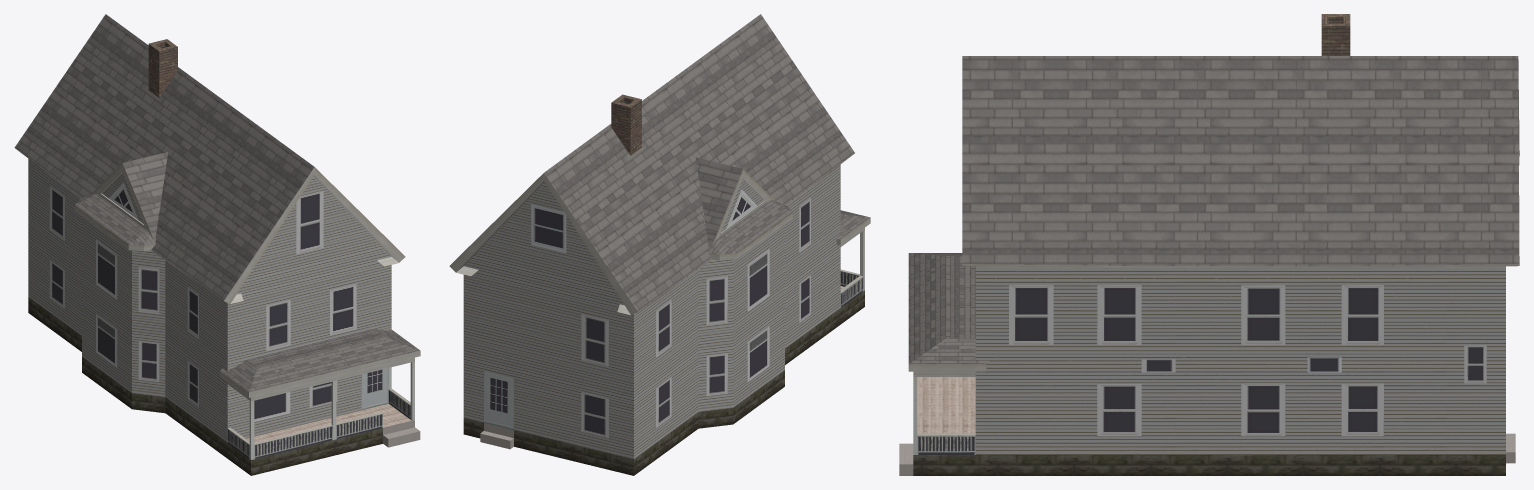
Rendered from farmhouse3.fbx.
3 renders of one model, left to right at view 1: azimuth 30°, elevation 25°; view 2: azimuth 150°, elevation 25°; view 3: azimuth 270°, elevation 25°, orthographic. The views are drawn at different scales.
Visible parts, largest first — view 1: Cube.001; view 2: Cube.001; view 3: Cube.001.
Boxes of the visible parts, bbox=[...] form: Cube.001: bbox=[14, 14, 420, 475]; Cube.001: bbox=[449, 14, 870, 475]; Cube.001: bbox=[899, 14, 1519, 475].
Bounding box in the file's own units: 79652 × 112601 × 160000.
1 material, 1 textured.
